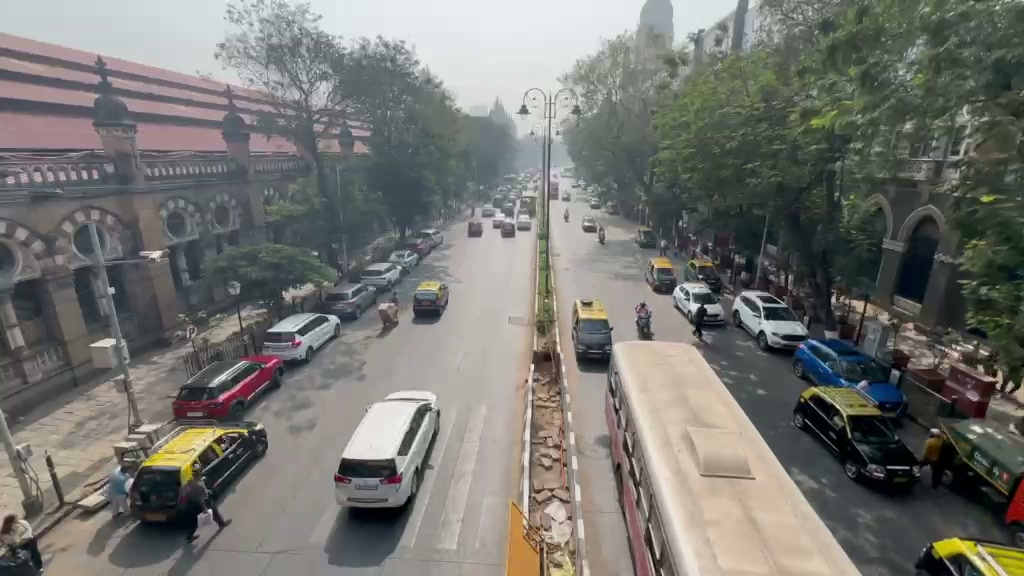bus: (603, 338, 862, 573)
car: (127, 423, 269, 525), (791, 384, 922, 494), (333, 389, 441, 516), (792, 337, 901, 410), (171, 354, 284, 422), (731, 291, 810, 352), (259, 311, 341, 366), (914, 535, 1024, 576), (571, 297, 614, 366), (319, 280, 378, 321), (672, 282, 723, 324), (412, 279, 449, 322), (644, 256, 679, 294), (359, 260, 404, 289), (387, 249, 420, 269), (495, 219, 516, 237)
pedestrian: (921, 428, 950, 490), (634, 301, 653, 340)
truck: (792, 384, 923, 495), (332, 389, 441, 516), (935, 416, 1023, 540)
